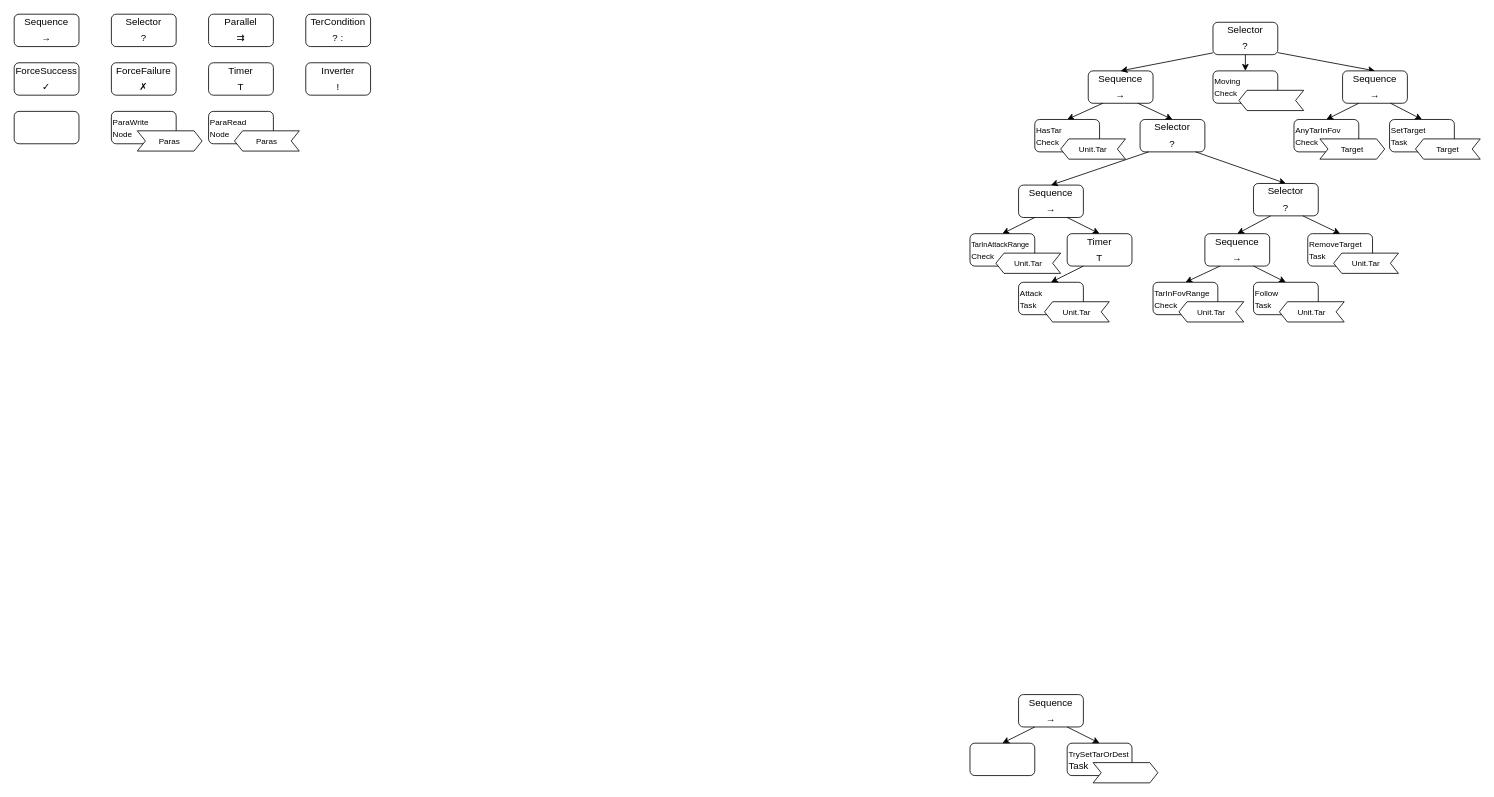
The diagram is 1494 pixels wide and 797 high, and some of its shapes have lost their labels. Here are the shapes that lost their labels. From the top down, the centre of each, then its label:
At pixel 1271 100: "Unit".
At pixel 46 127: "NonReadWrite Node".
At pixel 1002 759: "CollectivityIsSelect Check".
At pixel 1125 772: "Tar Dest".
